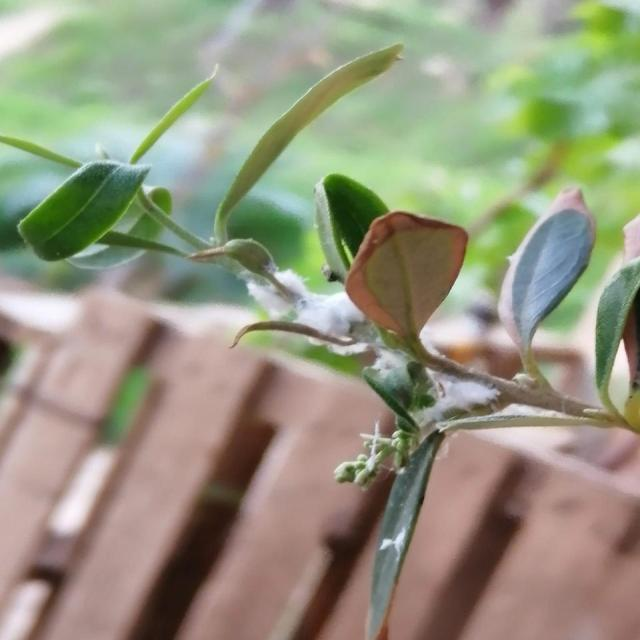Psyllid: (193, 239, 565, 484)
